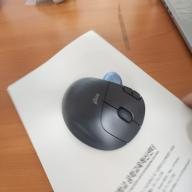mouse: (61, 70, 147, 154)
